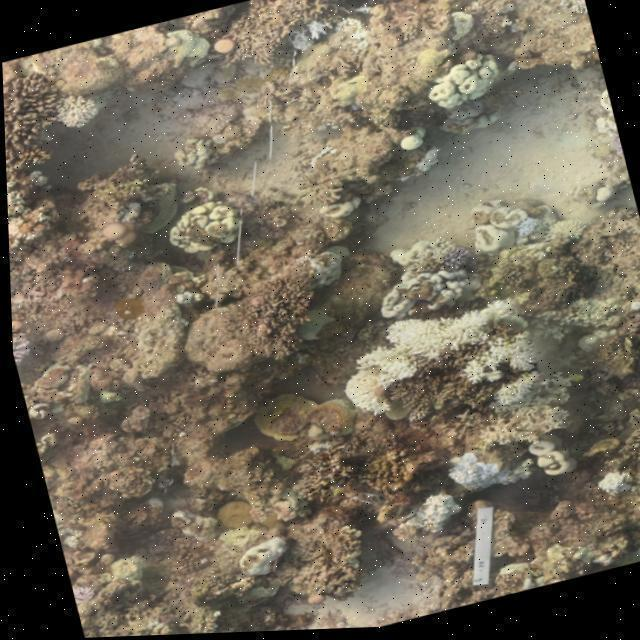Bleached Coral: (339, 293, 548, 379), (313, 348, 412, 428), (5, 161, 74, 253), (452, 332, 562, 388), (485, 364, 570, 432), (435, 442, 517, 504), (390, 485, 470, 545), (505, 208, 591, 263), (51, 84, 106, 131), (586, 466, 640, 512), (275, 16, 340, 54), (433, 244, 471, 277)
